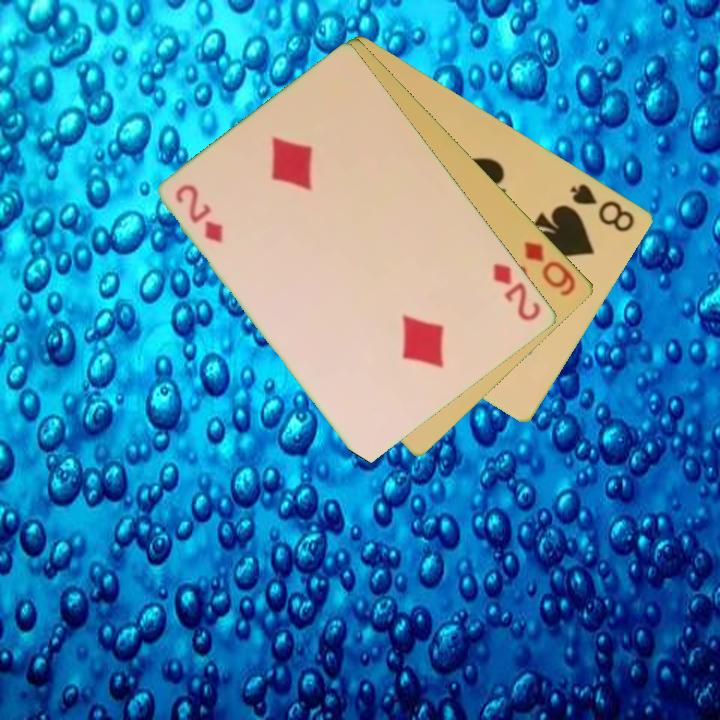2d: (490, 259, 545, 325), (172, 180, 227, 246)
6d: (520, 238, 580, 299)
8s: (567, 180, 638, 235)
